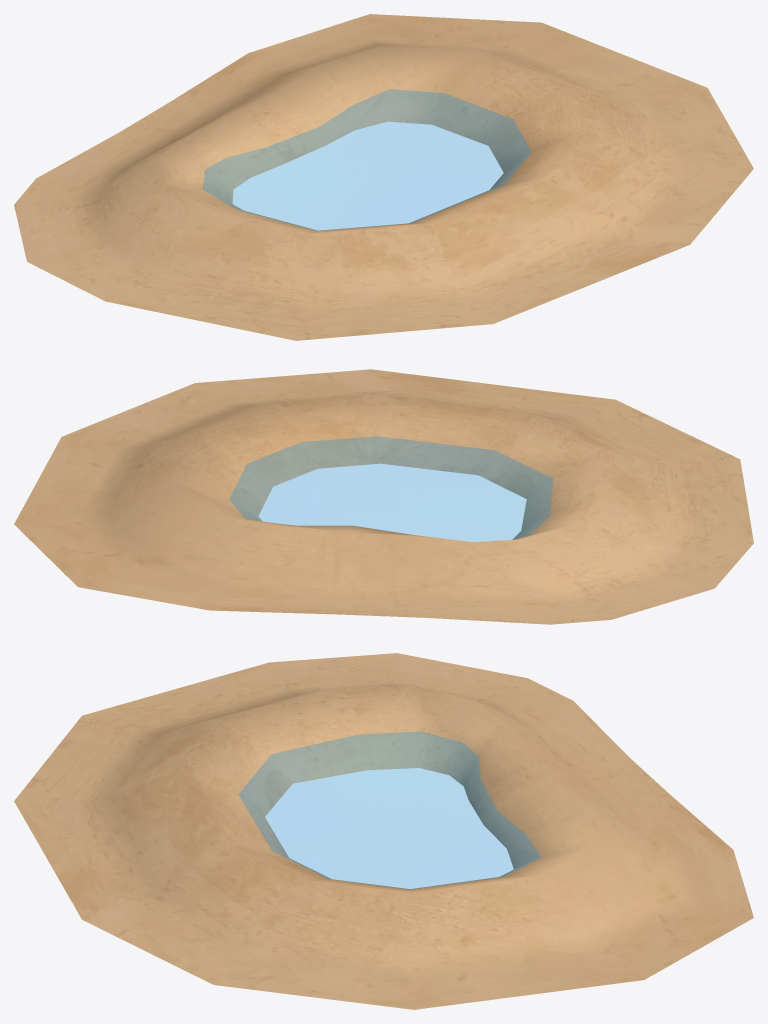
The model's file is pm-oasis.glb.
The picture shows the model from 3 angles, top to bottom: view 1: azimuth 30°, elevation 25°; view 2: azimuth 150°, elevation 25°; view 3: azimuth 270°, elevation 25°; orthographic projection. The views are drawn at different scales.
Visible parts, largest first — view 1: Oasis_Art; view 2: Oasis_Art; view 3: Oasis_Art.
Part boxes in pixels (box(x1,y1,x2,y2)): Oasis_Art: box(14, 14, 753, 340); Oasis_Art: box(14, 369, 753, 624); Oasis_Art: box(14, 653, 753, 1009).
Size of the model in its own units: 14.4 by 0.8489 by 12.62.
Materials: 2 (2 with a texture image).
